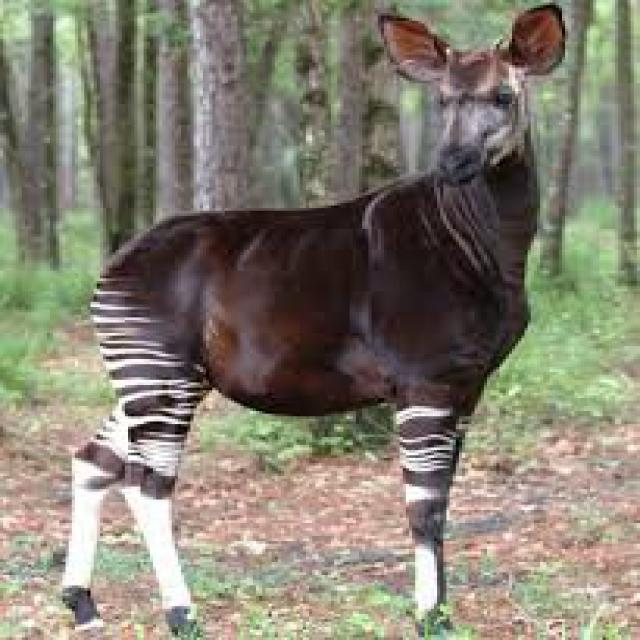Okapi: (56, 0, 572, 640)
